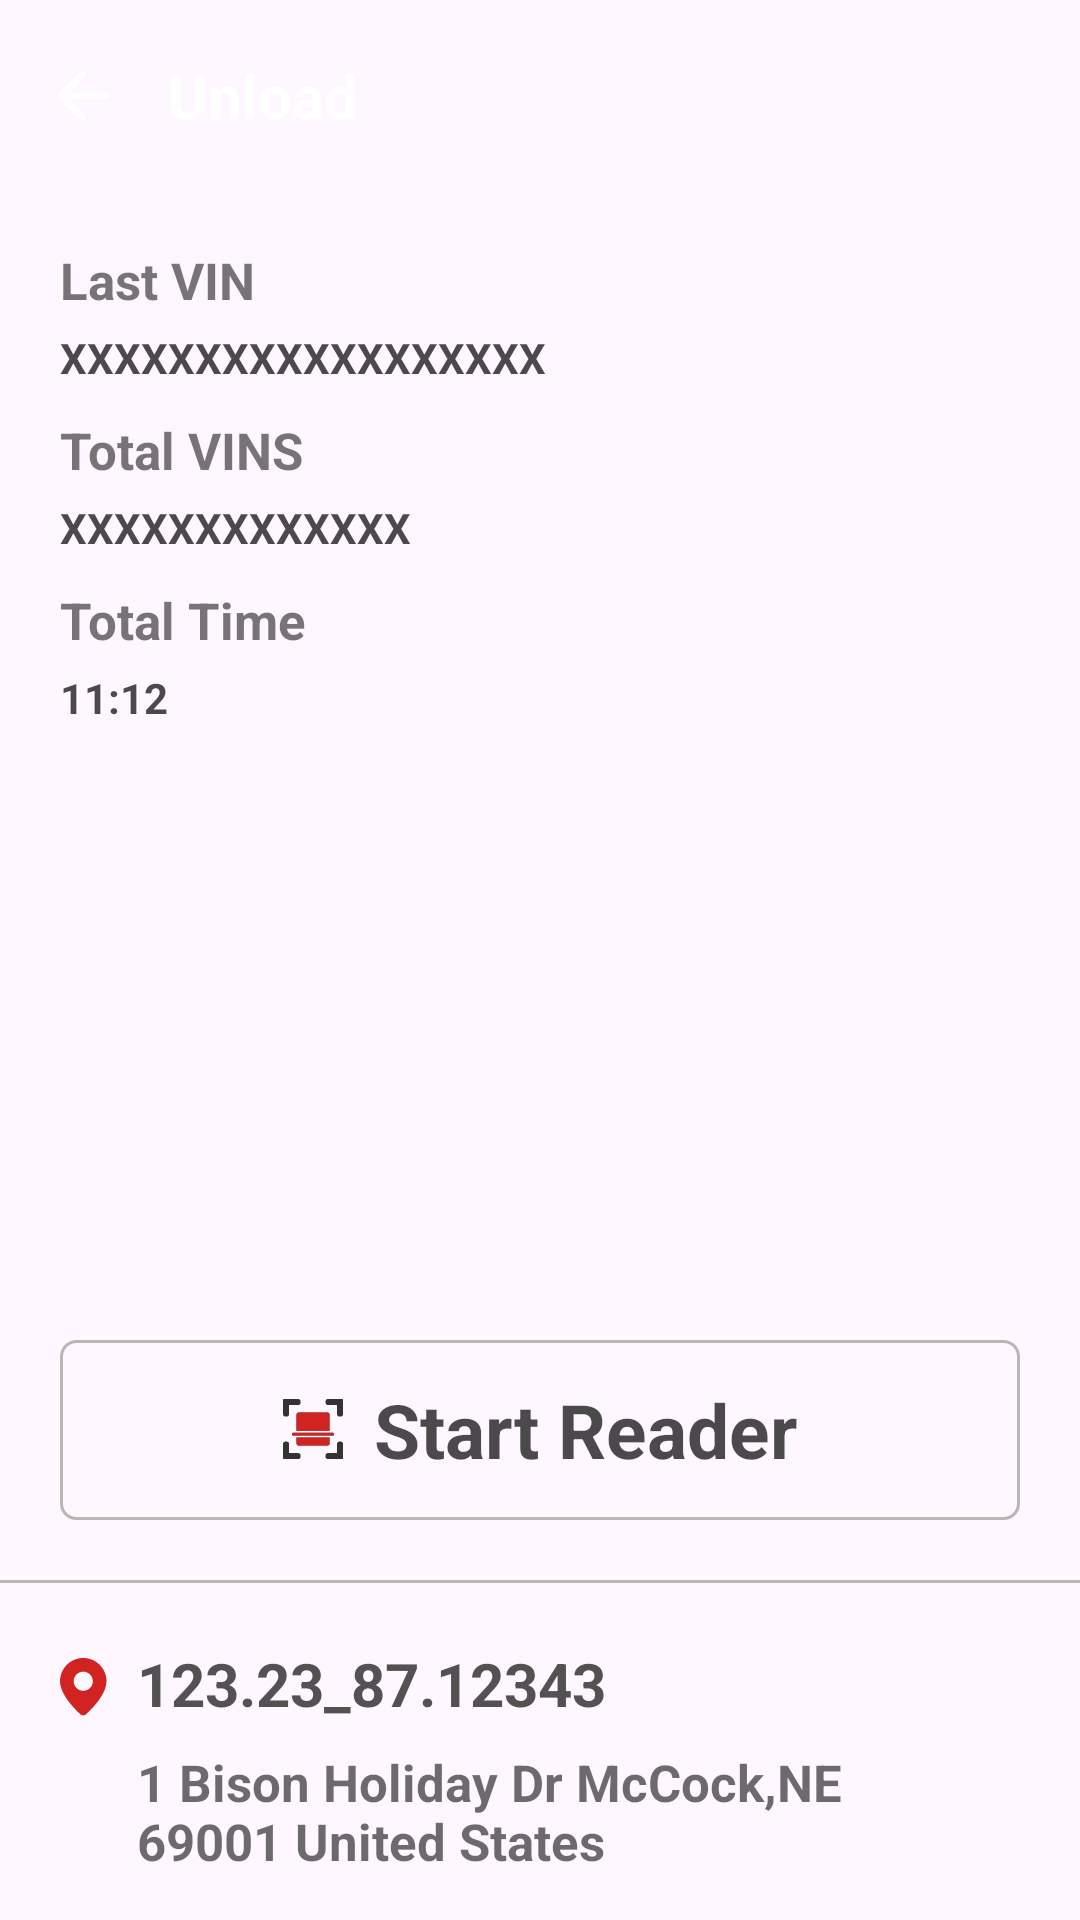

Named icons in this screenshot (1080x1920) and their bounding boxes, detection(x1, y1, x2, y2):
location: detection(60, 1658, 107, 1716)
